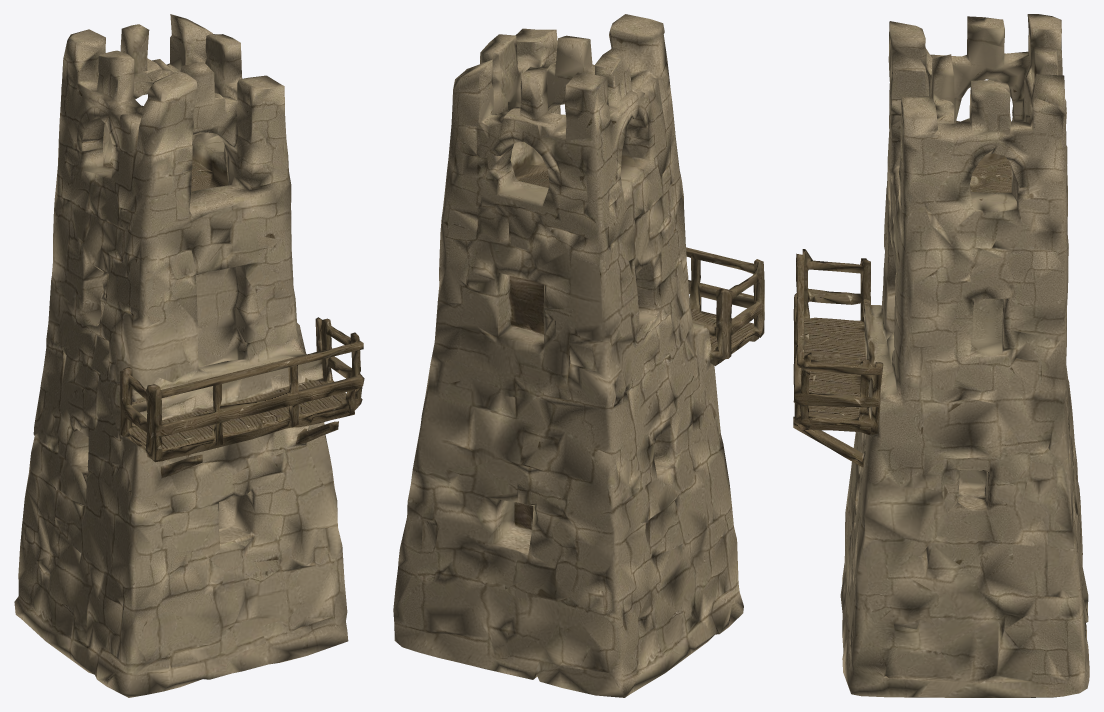
File: watchtower.glb
The picture shows the model from 3 angles, left to right: view 1: azimuth 30°, elevation 25°; view 2: azimuth 150°, elevation 25°; view 3: azimuth 270°, elevation 25°; orthographic projection. The views are drawn at different scales.
Bounding box in the file's own units: 0.804 × 1.9 × 0.8623.
1 material, 1 textured.
